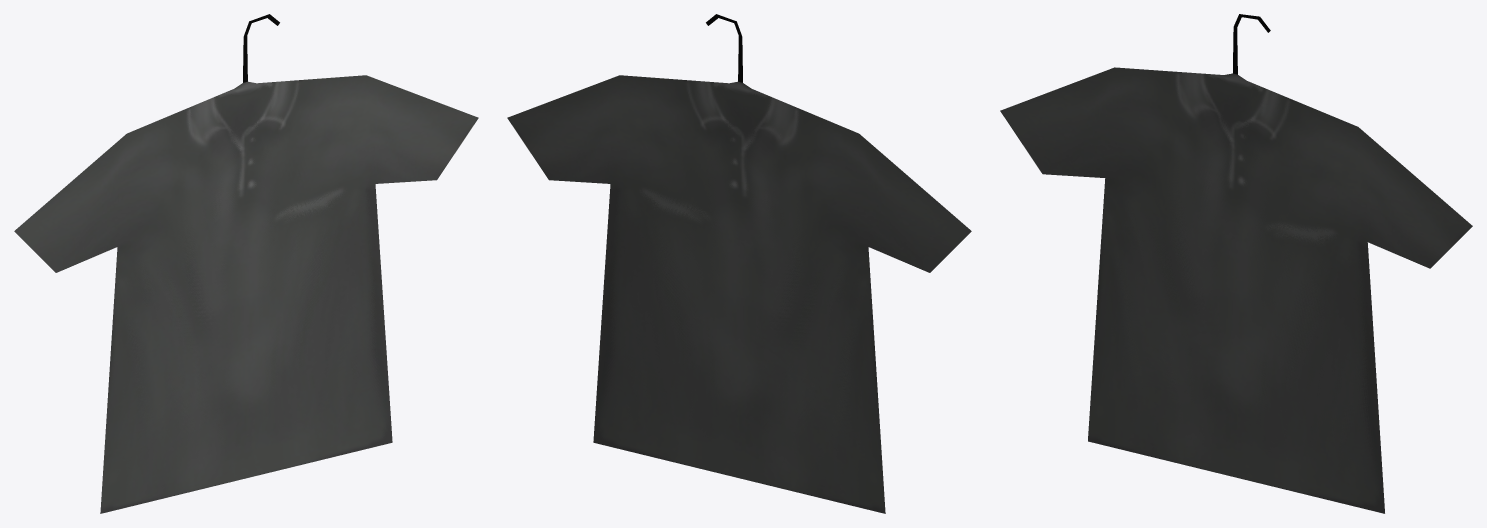
The model's file is cloth1.dae.
3 views of the same model, side by side, from view 1: azimuth 30°, elevation 25°; view 2: azimuth 150°, elevation 25°; view 3: azimuth 330°, elevation 25° (orthographic).
Parts seen in each view (by area): view 1: LOD_01; view 2: LOD_01; view 3: LOD_01.
Boxes of the visible parts, x1=… form: LOD_01: x1=14, y1=14, x2=478, y2=513; LOD_01: x1=507, y1=14, x2=971, y2=513; LOD_01: x1=1000, y1=14, x2=1472, y2=513.
Bounding box in the file's own units: 3.18 × 0 × 3.
